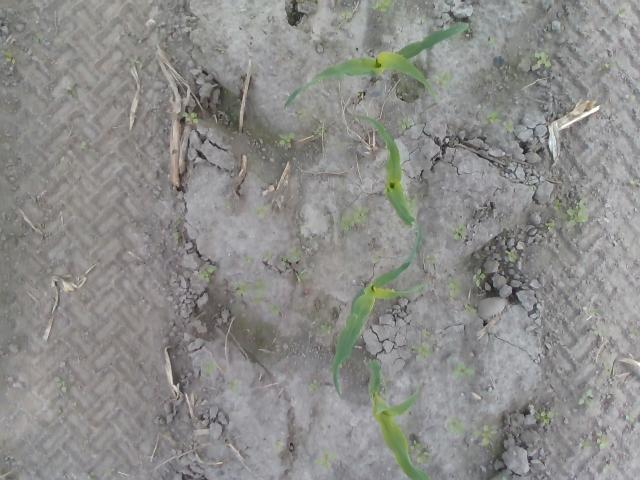Maize: (332, 228, 428, 396), (284, 24, 468, 105), (366, 360, 428, 480), (356, 114, 416, 224)
Weeds: (473, 423, 500, 446), (408, 440, 432, 464), (566, 200, 588, 226), (342, 208, 369, 226), (451, 361, 476, 380), (578, 386, 594, 407), (372, 0, 392, 16), (315, 452, 337, 466), (414, 346, 432, 362), (199, 265, 217, 281), (472, 268, 486, 288), (54, 376, 68, 394), (536, 410, 554, 424), (181, 111, 200, 124), (452, 224, 467, 240), (1, 50, 16, 66), (448, 280, 462, 297), (234, 279, 248, 296), (256, 279, 266, 302), (448, 418, 464, 432), (536, 50, 550, 66), (281, 252, 296, 266), (278, 133, 294, 146), (435, 70, 448, 86), (396, 118, 416, 128), (312, 122, 326, 136), (552, 199, 564, 215), (506, 249, 520, 262), (320, 322, 334, 334), (502, 120, 516, 132), (486, 111, 498, 123), (578, 438, 592, 448), (465, 303, 477, 314), (596, 436, 609, 446), (296, 108, 306, 121), (546, 220, 556, 231), (308, 382, 318, 391)
